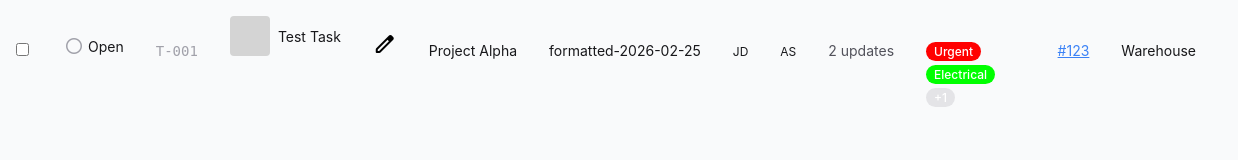
Test: <TaskTableRow /> › cancels editing when cancel button is clicked
# Start editing
Click the button "Edit" at (385,46), box x1=373 y1=32 x2=397 y2=59
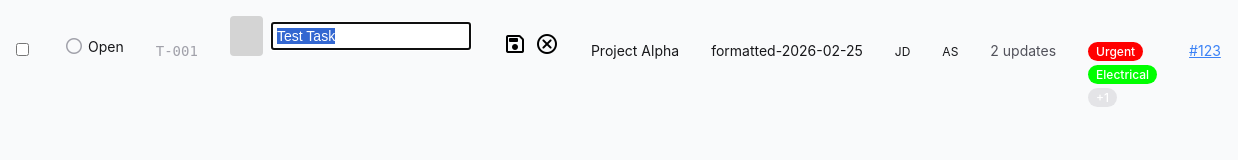
# Cancel editing
Click the button "Cancel" at (547,46), box x1=535 y1=32 x2=559 y2=59
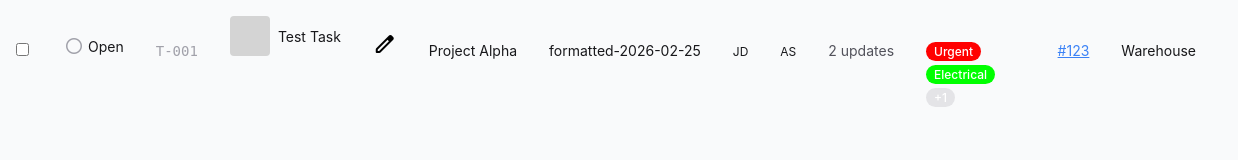
Now the button "Test Task" is shown, box x1=278 y1=28 x2=341 y2=44
